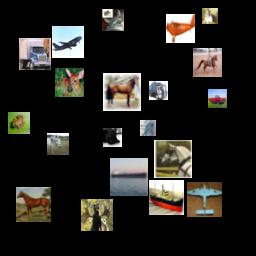airplane: (187, 182, 222, 217), (52, 26, 84, 58), (166, 14, 195, 43), (140, 120, 156, 136)
automobile: (208, 89, 227, 108)
cat: (102, 9, 124, 31), (103, 128, 122, 147), (202, 8, 218, 24)
deer: (81, 199, 113, 231), (55, 68, 84, 97)
frog: (8, 112, 30, 134)
ship: (110, 158, 148, 196), (149, 180, 184, 215)
truck: (19, 38, 51, 70), (149, 81, 168, 100)
